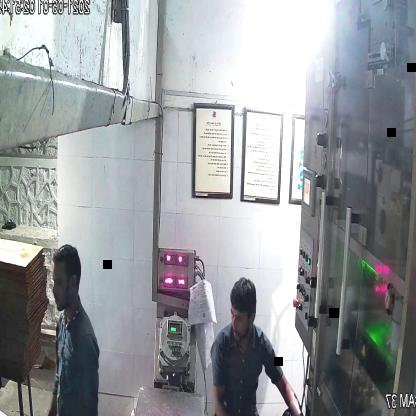no_goggles: (228, 305, 258, 328)
